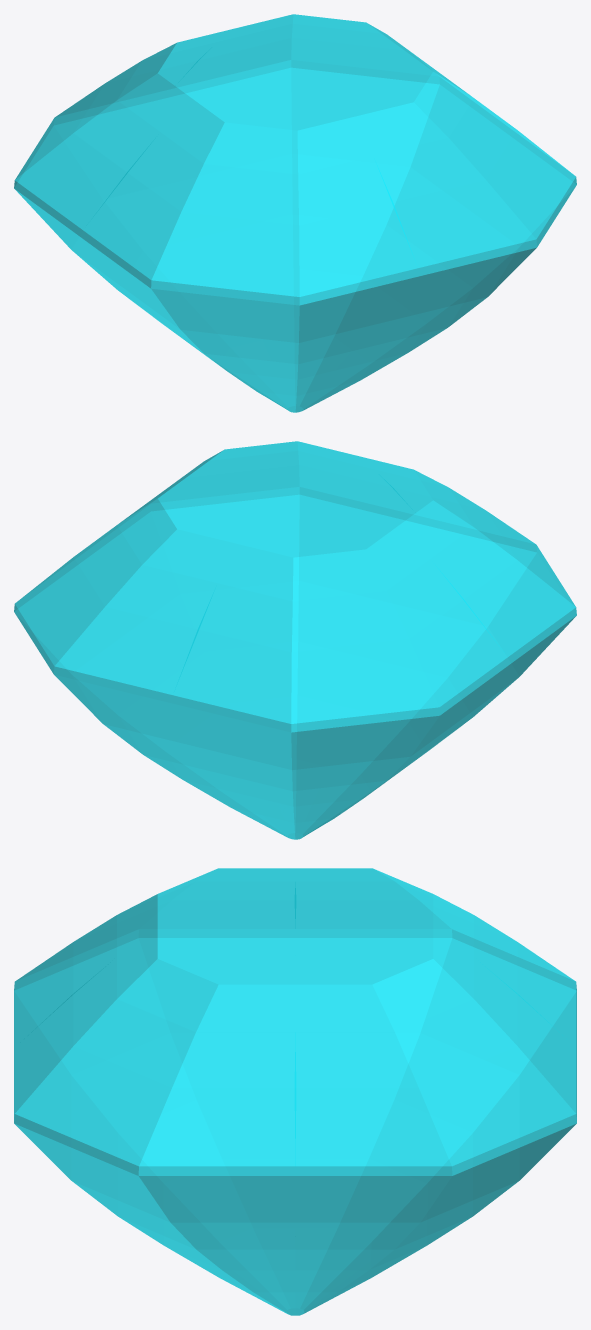
File: assher aquamarine.glb
3 renders of one model, top to bottom at view 1: azimuth 30°, elevation 25°; view 2: azimuth 150°, elevation 25°; view 3: azimuth 270°, elevation 25°, orthographic. The views are drawn at different scales.
Parts seen in each view (by area): view 1: Asscher.001; view 2: Asscher.001; view 3: Asscher.001.
Part boxes in pixels (bbox=[...]): Asscher.001: bbox=[14, 14, 576, 412]; Asscher.001: bbox=[14, 441, 576, 839]; Asscher.001: bbox=[14, 868, 576, 1315].
Bounding box in the file's own units: 1.5 × 1.14 × 1.5.
